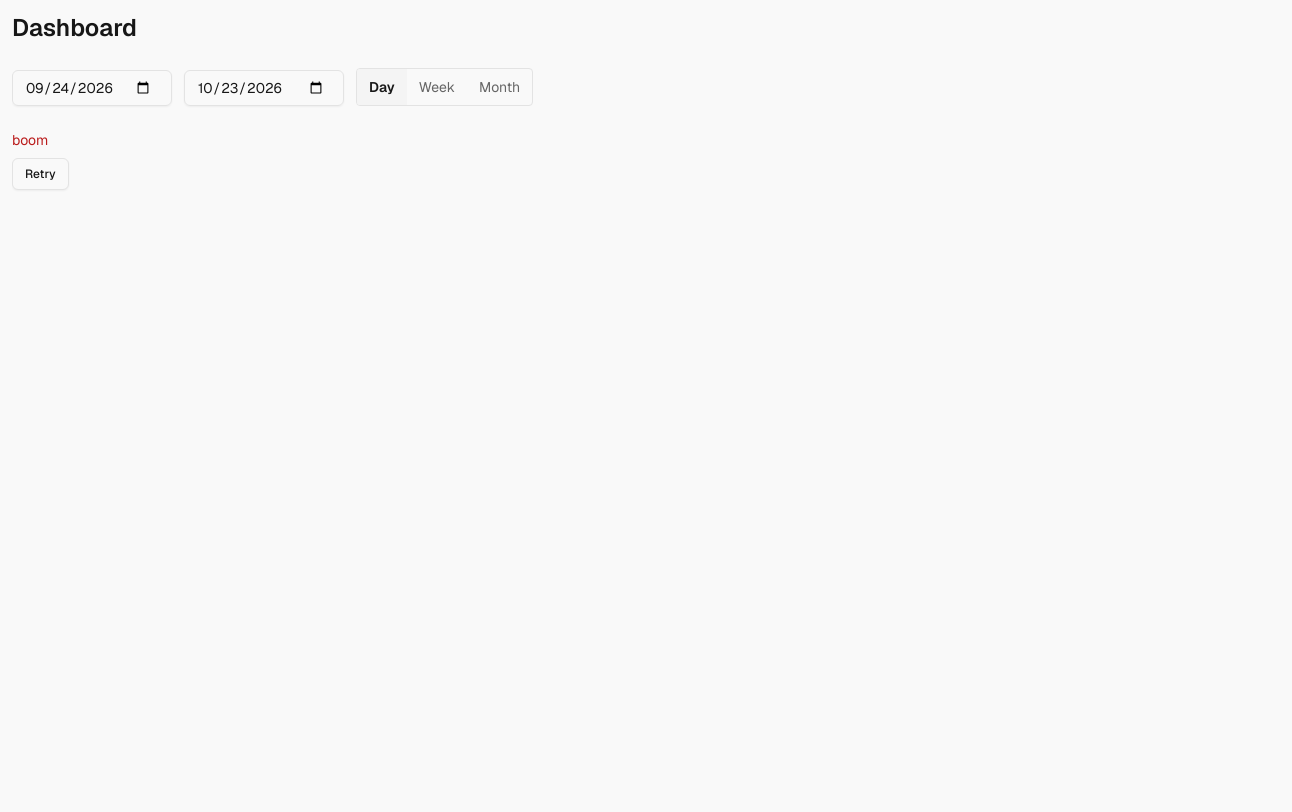
Test: Dashboard › shows an alert with retry when the fetch fails
This screenshot has width=1292, height=812.
Expected: the text "boom" is shown, [12,131,48,149]
Click the button "Retry".
click(40, 174)  # box [12,158,69,190]
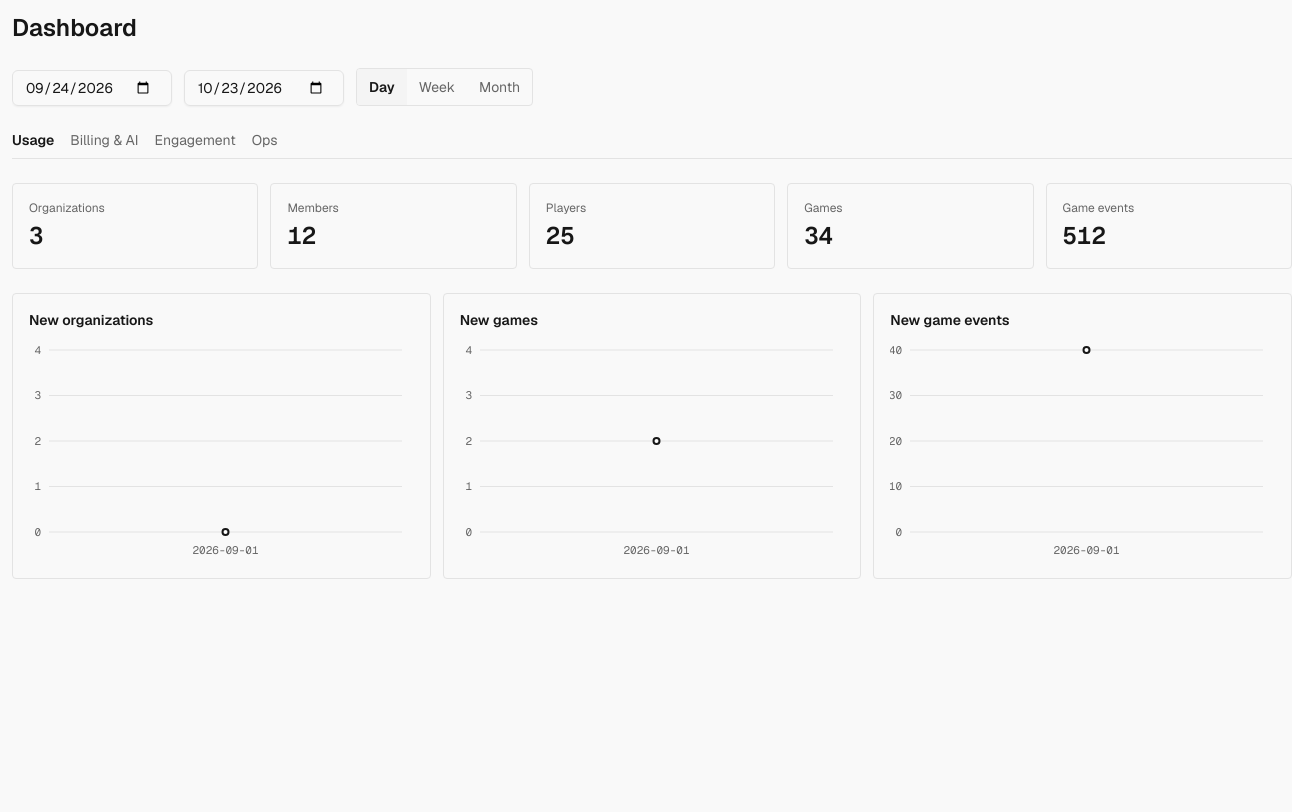
Result: the text "Game events" is shown at [1063,200,1134,216]
